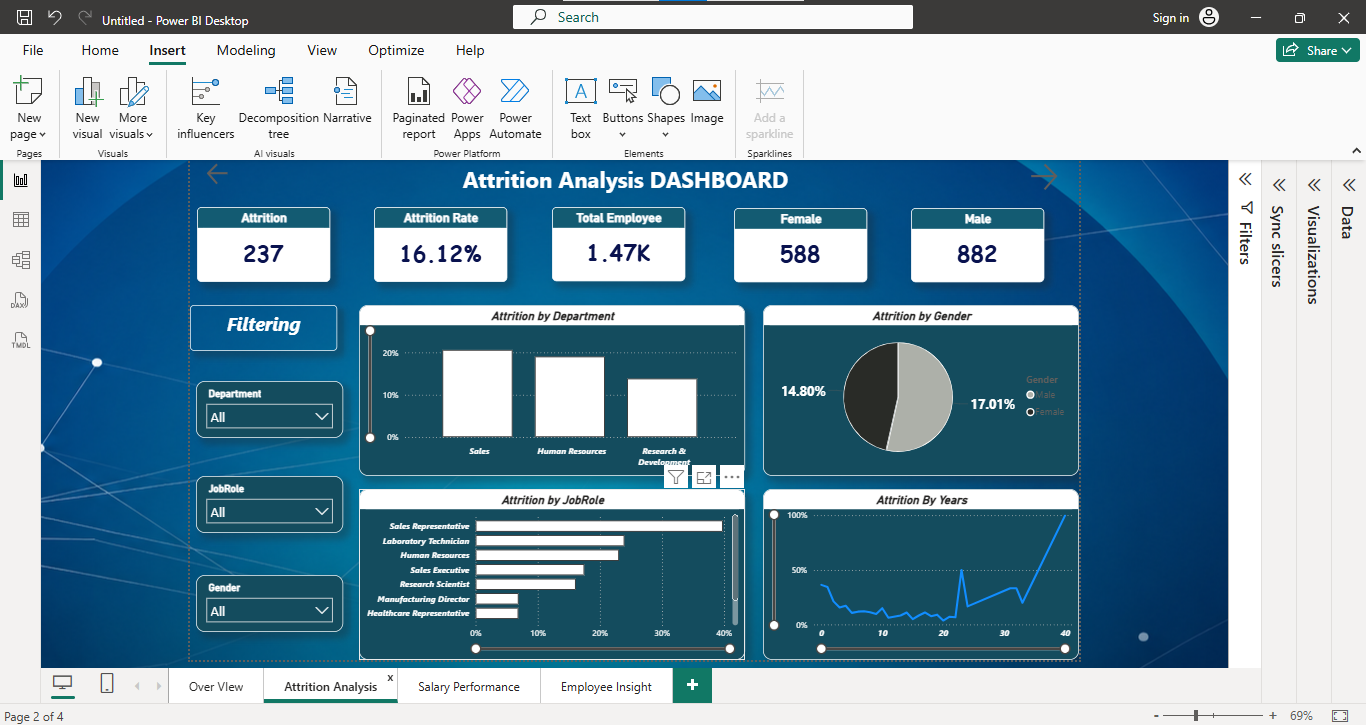

Layout of this report page (visuals, bound fields, positions):
{"tool":"powerbi","page":{"name":"Attrition Analysis","canvas":[1280,720],"ordinal":1},"visuals":[{"type":"textbox","box":[119.5,0,1015.2,69.1],"z":0},{"type":"cardVisual","title":"Attrition  Rate","fields":{"Data":["Query1.Atrration Rate"]},"box":[265,67.7,191.5,108],"z":1000},{"type":"cardVisual","title":"Total  Employee","fields":{"Data":["Query1.Total Emp"]},"box":[521.3,67.7,191.5,106.6],"z":2000},{"type":"pieChart","title":"Attrition  by Gender","fields":{"Category":["Query1.Gender"],"Y":["Query1.Atrration Rate"]},"box":[825.1,208.8,455,246.2],"z":3000},{"type":"cardVisual","title":"Attrition","fields":{"Data":["Query1.ToTAL Employee Left"]},"box":[10.1,67.7,191.5,108],"z":4000},{"type":"columnChart","title":"Attrition by Department ","fields":{"Category":["Query1.Department"],"Y":["Query1.Atrration Rate"]},"box":[243.4,208.8,555.8,246.2],"z":5000},{"type":"slicer","title":"Total Employee by Gender","fields":{"Values":["Query1.JobRole"]},"box":[8.6,455,211.7,82.1],"z":6000},{"type":"lineChart","title":"Attrition By Years","fields":{"Y":["Query1.Atrration Rate"],"Category":["Query1.YearsAtCompany"]},"box":[825.1,473.8,455,246.2],"z":7000},{"type":"actionButton","box":[1180.8,0,99.4,49],"z":8000},{"type":"actionButton","box":[0,0,100,40],"z":9000},{"type":"clusteredBarChart","title":"Attrition by JobRole ","fields":{"Category":["Query1.JobRole"],"Y":["Query1.Atrration Rate"]},"box":[243.4,473.8,555.8,246.2],"z":10000},{"type":"textbox","box":[0,208.8,211.7,66.2],"z":11000},{"type":"slicer","title":"Total Employee by Gender","fields":{"Values":["Query1.Department"]},"box":[8.6,318.2,211.7,82.1],"z":12000},{"type":"slicer","title":"Total Employee by Gender","fields":{"Values":["Query1.Gender"]},"box":[8.6,597.6,211.7,82.1],"z":13000},{"type":"cardVisual","title":"Male","fields":{"Data":["Query1.Male"]},"box":[1038.2,69.1,191.5,106.6],"z":14000},{"type":"cardVisual","title":"Female","fields":{"Data":["Query1.Female"]},"box":[783.4,69.1,191.5,106.6],"z":15000}]}

Visuals, with their boxes on the page's 1280x720 design canvas (x1, y1, x2, y2). These are canvas units, not pixel positions in the 1366x725 screenshot, which may show the page scaled, cropped or inside an application window:
textbox: box(120, 0, 1135, 69)
"Attrition  Rate" cardVisual: box(265, 68, 456, 176)
"Total  Employee" cardVisual: box(521, 68, 713, 174)
"Attrition  by Gender" pieChart: box(825, 209, 1280, 455)
"Attrition" cardVisual: box(10, 68, 202, 176)
"Attrition by Department " columnChart: box(243, 209, 799, 455)
"Total Employee by Gender" slicer: box(9, 455, 220, 537)
"Attrition By Years" lineChart: box(825, 474, 1280, 720)
actionButton: box(1181, 0, 1280, 49)
actionButton: box(0, 0, 100, 40)
"Attrition by JobRole " clusteredBarChart: box(243, 474, 799, 720)
textbox: box(0, 209, 212, 275)
"Total Employee by Gender" slicer: box(9, 318, 220, 400)
"Total Employee by Gender" slicer: box(9, 598, 220, 680)
"Male" cardVisual: box(1038, 69, 1230, 176)
"Female" cardVisual: box(783, 69, 975, 176)
